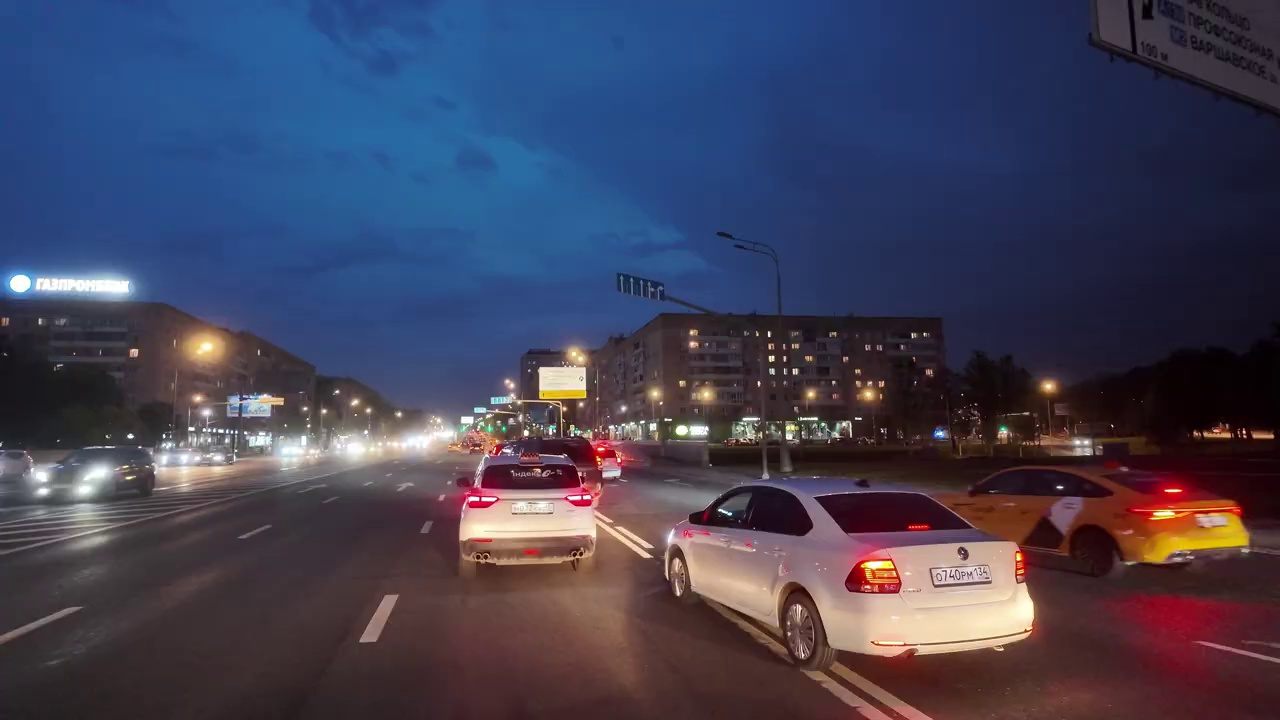acesa: (186, 333, 225, 365), (1037, 376, 1061, 400)
apagada: (713, 225, 741, 250)
